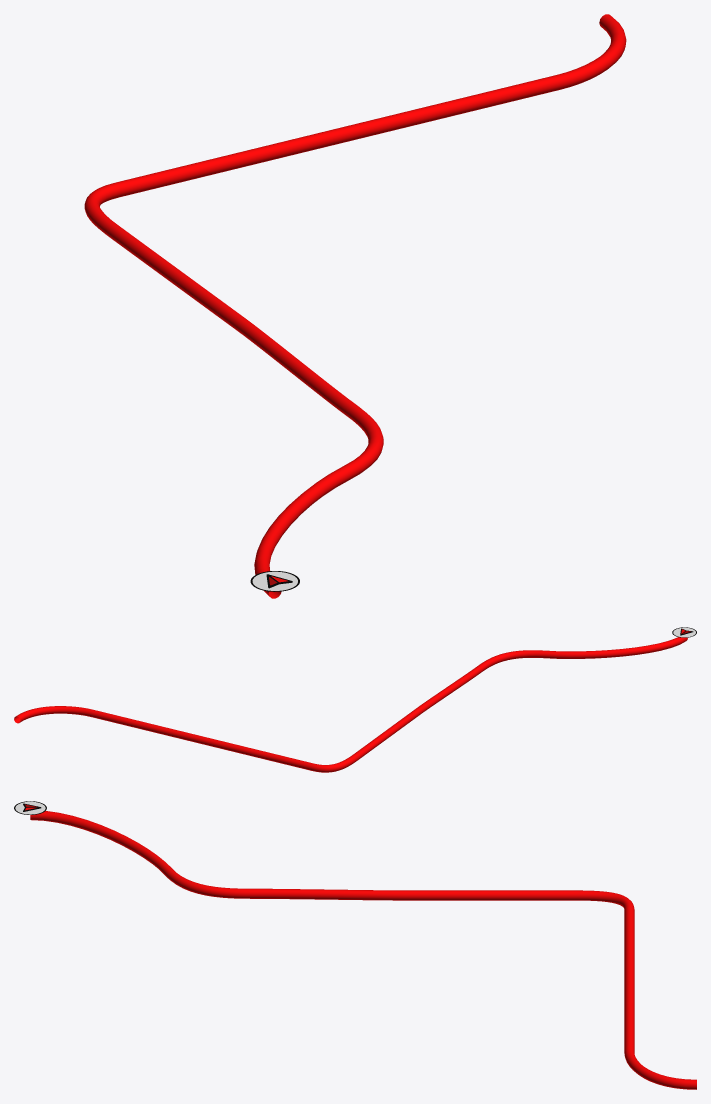
The model's file is route_ef529755-8a9a-497e-a5d8-1bfd0cd688f1_de_single.glb.
The picture shows the model from 3 angles, top to bottom: view 1: azimuth 30°, elevation 25°; view 2: azimuth 150°, elevation 25°; view 3: azimuth 270°, elevation 25°; orthographic projection. The views are drawn at different scales.
Parts seen in each view (by area): view 1: B4, Abteil 2; view 2: B4, Abteil 2; view 3: B4, Abteil 2.
Part boxes in pixels (left/top/right/bottom): B4, Abteil 2: left=84, top=14, right=626, bottom=598; B4, Abteil 2: left=14, top=637, right=687, bottom=772; B4, Abteil 2: left=30, top=811, right=696, bottom=1089.
Bounding box in the file's own units: 5.19 × 0.1062 × 5.37.
